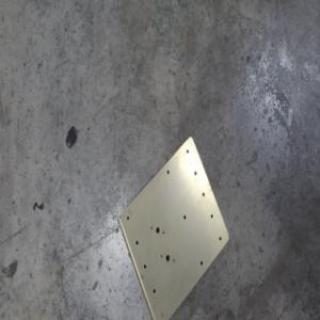MetalSheettrack_idkeyframe: (115, 134, 230, 319)
